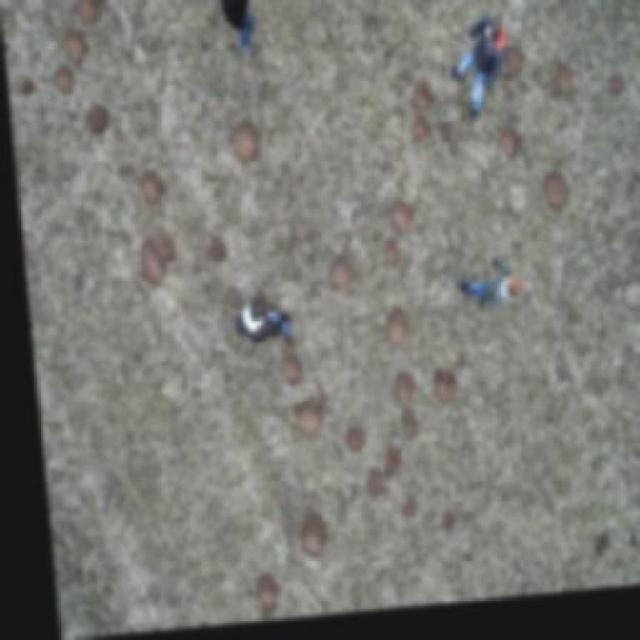Person: (442, 21, 522, 127), (448, 257, 535, 323), (222, 293, 300, 362), (204, 0, 266, 75)
